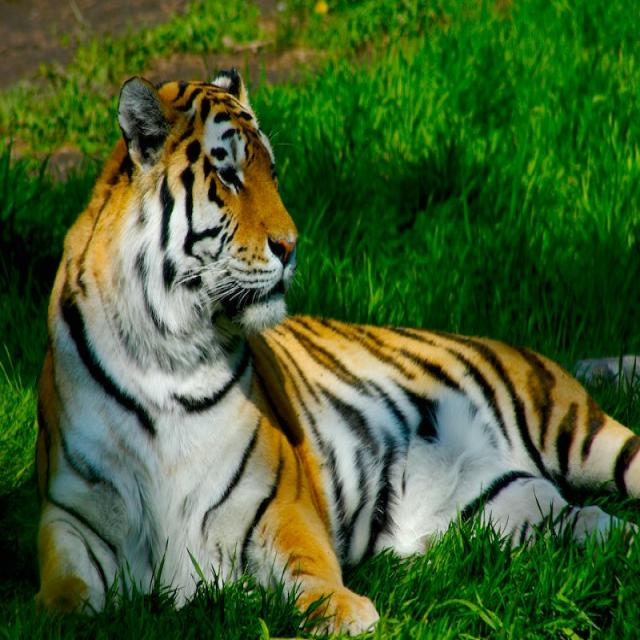Tiger: (34, 66, 636, 638)
